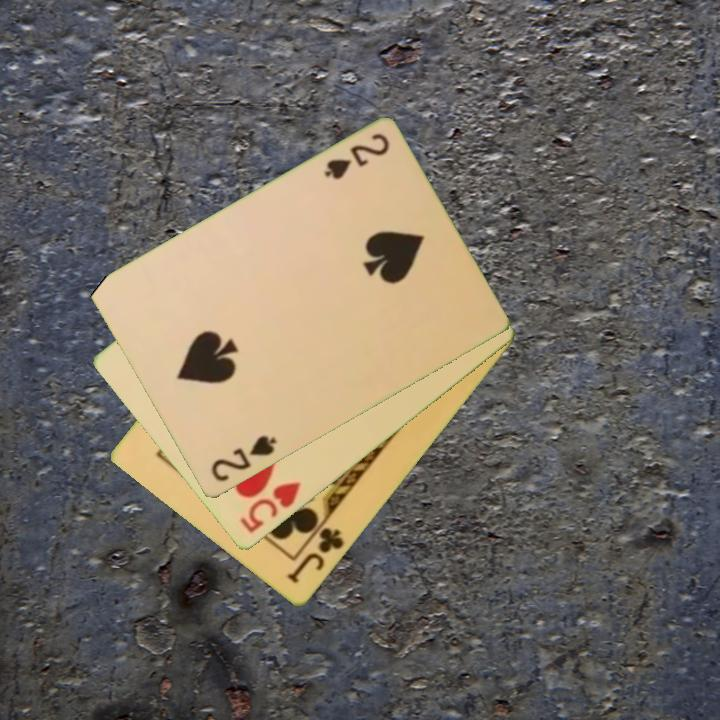2s: (207, 432, 280, 486), (320, 130, 392, 184)
5h: (236, 478, 304, 537)
Jc: (283, 524, 347, 587)
